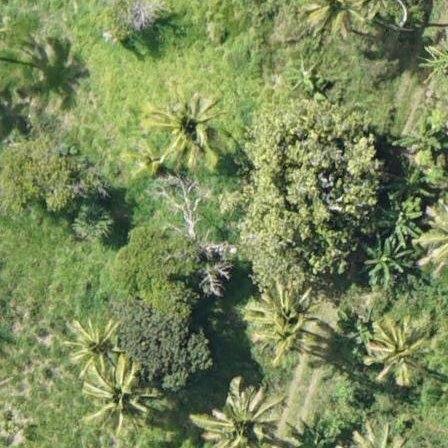palm_tree: (245, 282, 325, 358), (151, 92, 221, 165), (363, 319, 429, 389), (81, 366, 152, 429), (201, 387, 272, 448), (66, 317, 120, 376)
